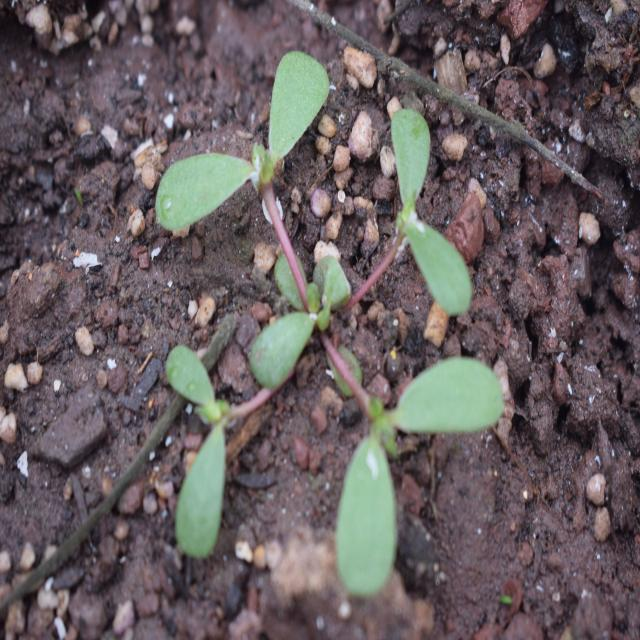purslane: (143, 52, 515, 598)
